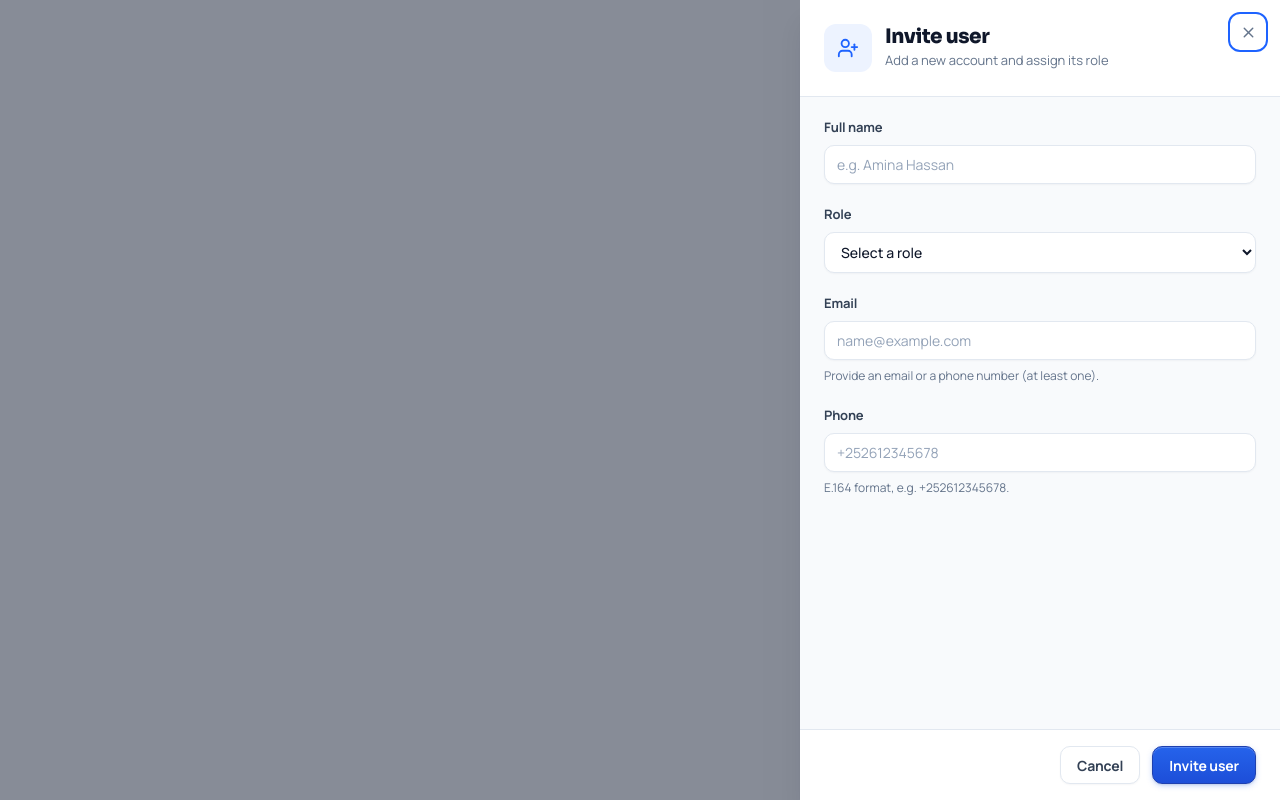
Test: InviteUserForm › rejects a malformed phone number
Type "Amina Hassan" into the field with placeholder "e.g. Amina Hassan".
click(1040, 165); type("Amina Hassan")  # box 824,145 -> 1256,184
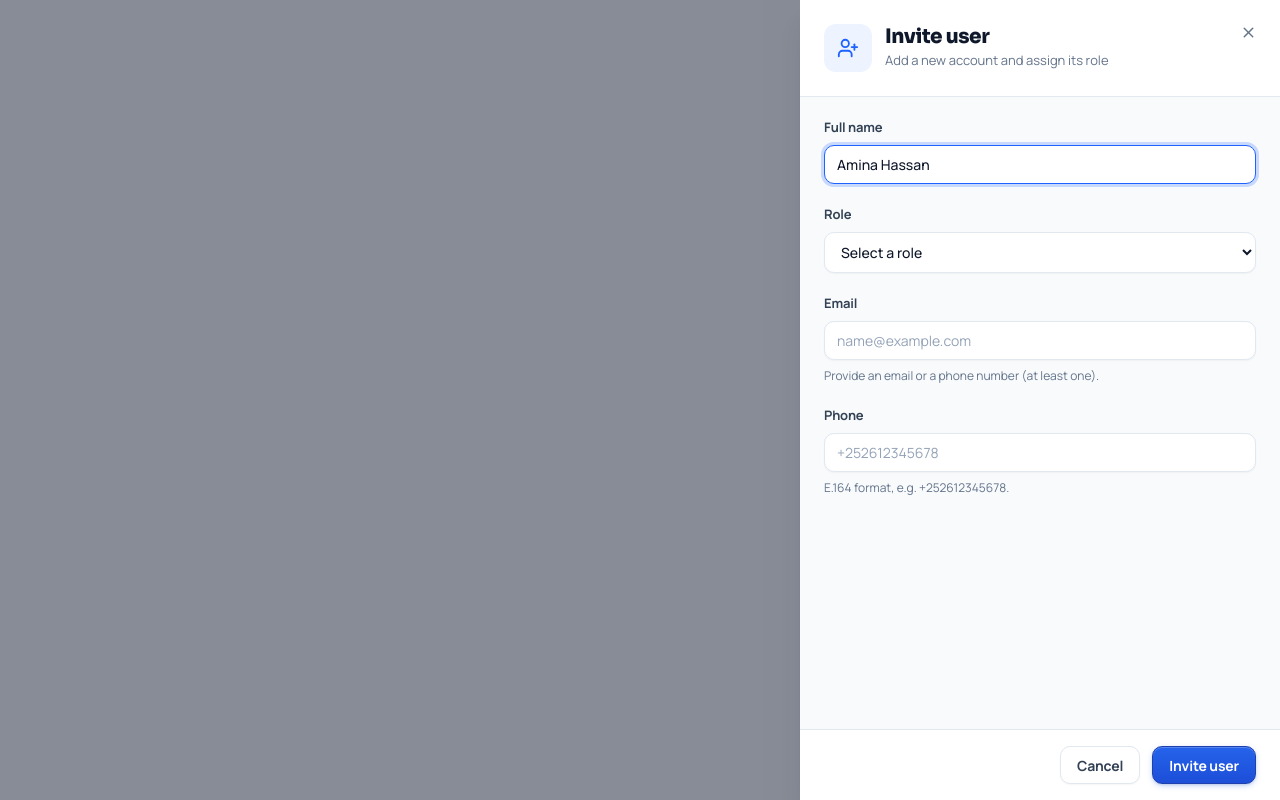
Select "Founder" in the dropdown labelled "Role" at (1040, 253), box 824,232 -> 1256,273
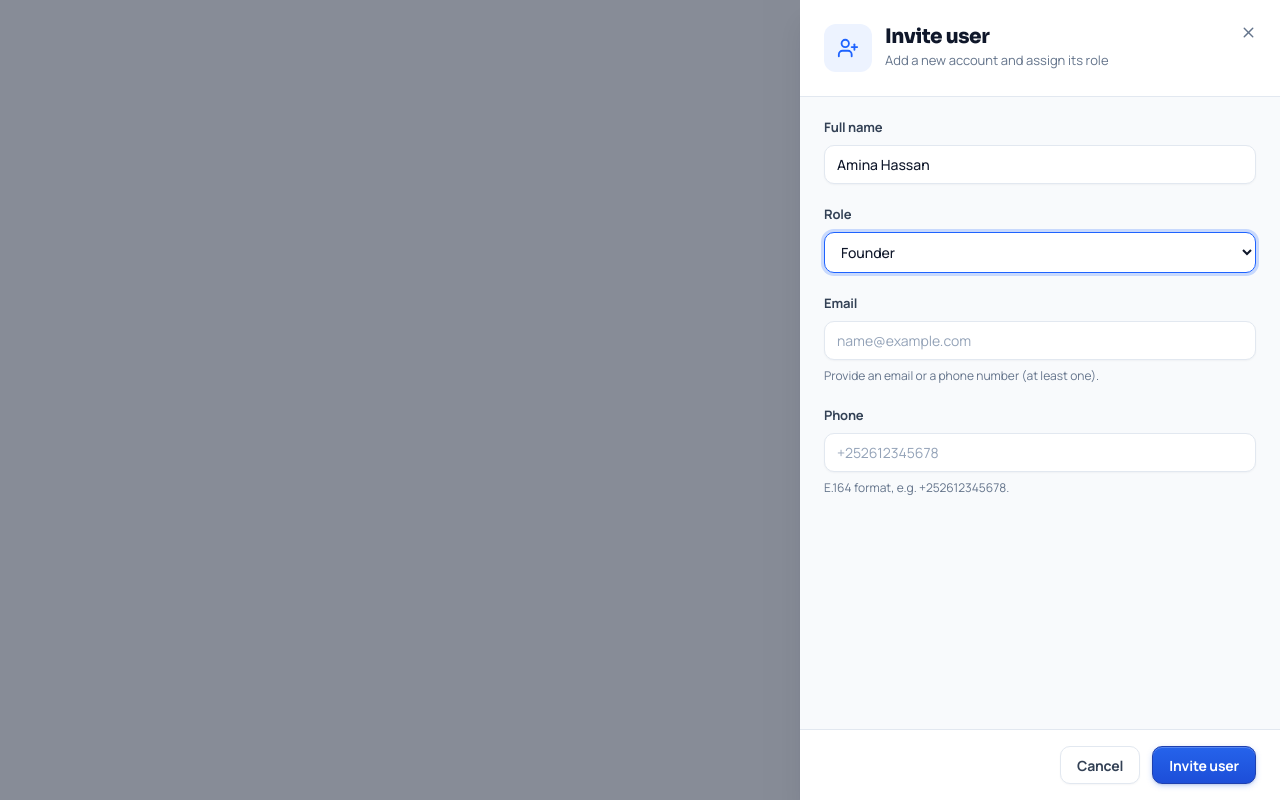
Type "not-a-phone" into the field with placeholder "+252612345678".
click(1040, 452); type("not-a-phone")  # box 824,433 -> 1256,472
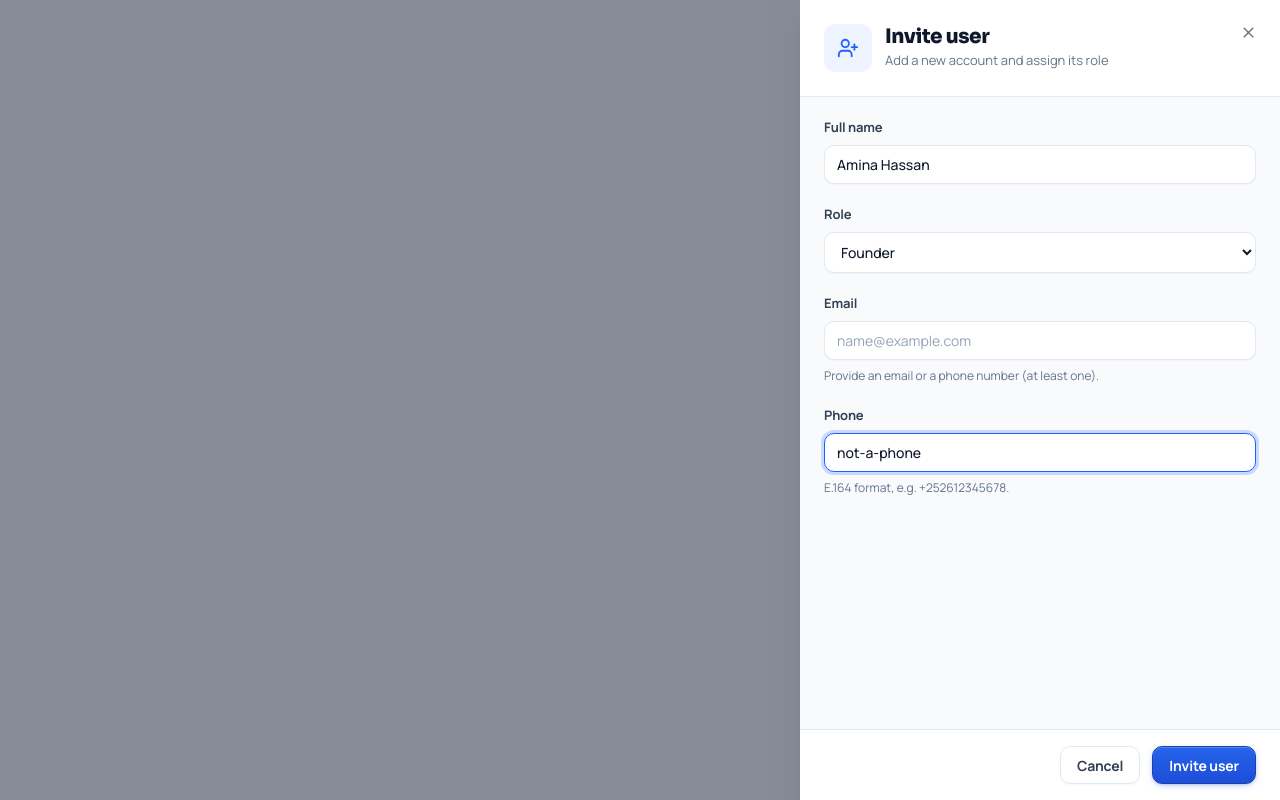
Click the button "Invite user".
click(1204, 765)  # box 1152,746 -> 1256,784
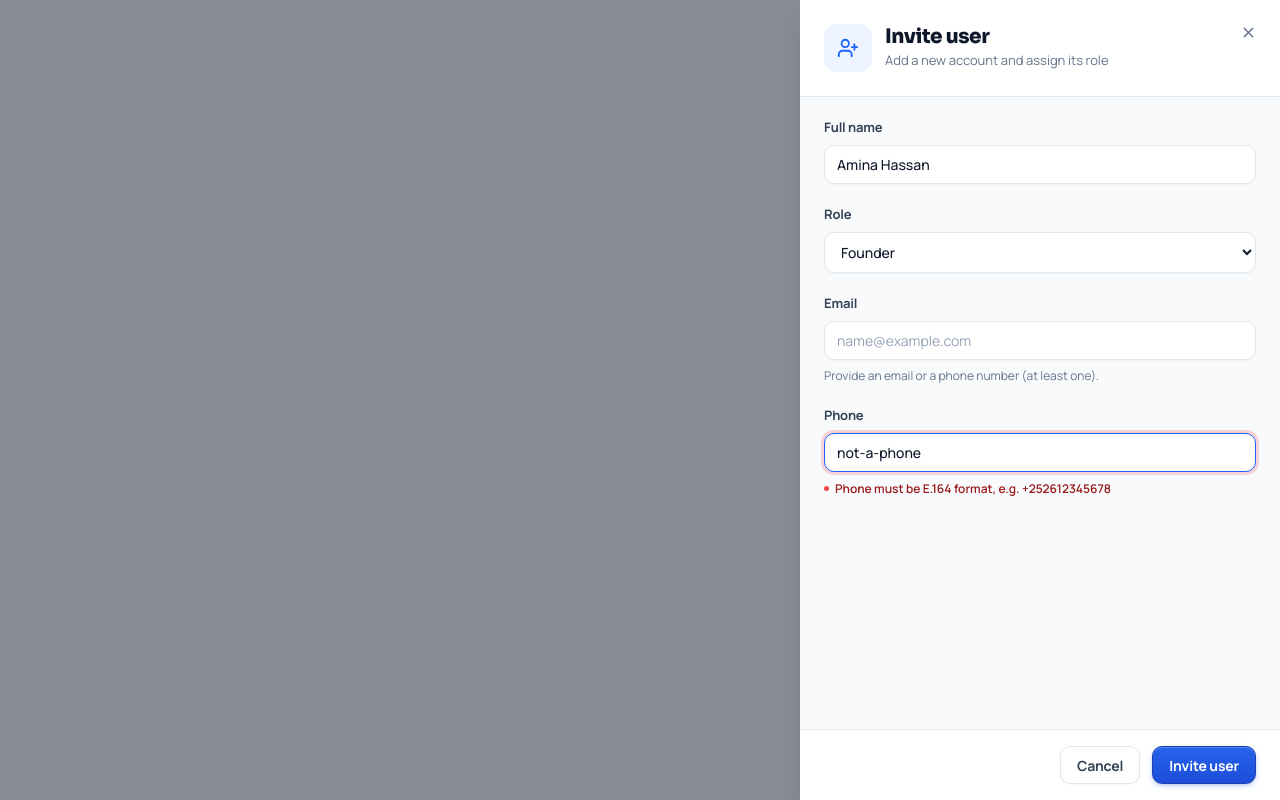
Result: the text "Phone must be E.164 format, e.g. +252612345678" is shown at 835,480 -> 1111,497
